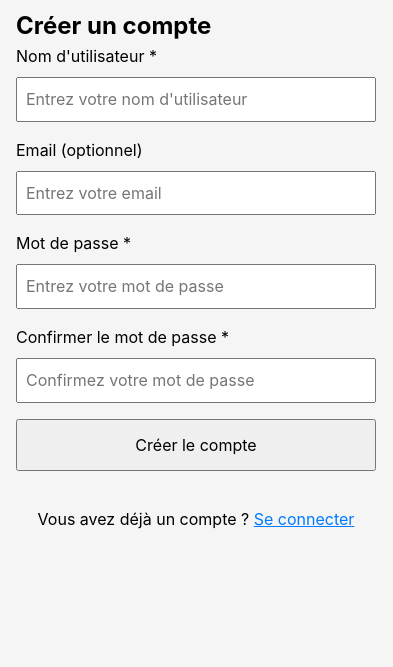
Test: Signup Component › should show success message after successful signup
Type "newuser" into the field labelled "Nom d'utilisateur *". click: (196, 99)
box: [16,77,376,122]
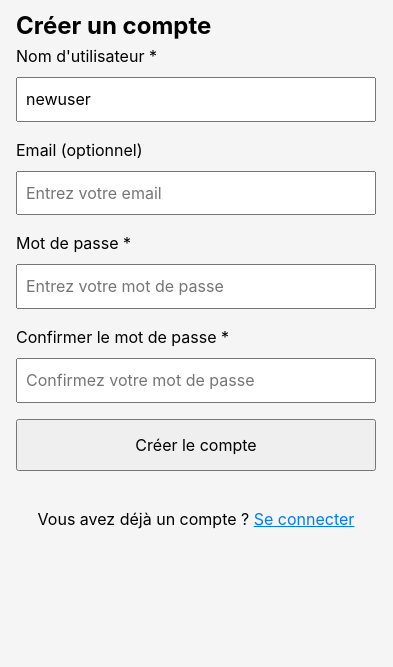
Type "password123" into the password field labelled "Mot de passe *". click: (196, 287)
box: [16,264,376,309]
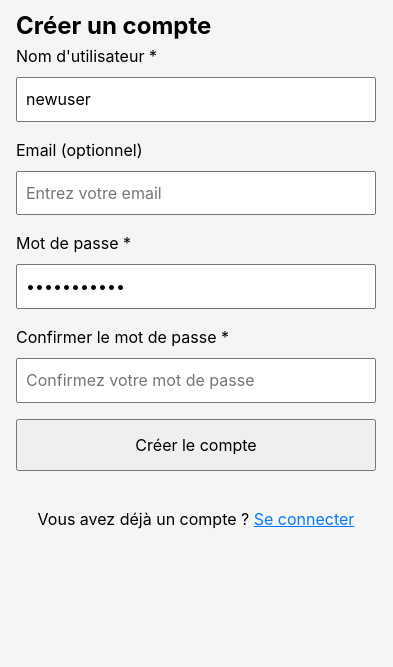
Type "password123" into the password field labelled "Confirmer le mot de passe *". click: (196, 380)
box: [16,358,376,403]
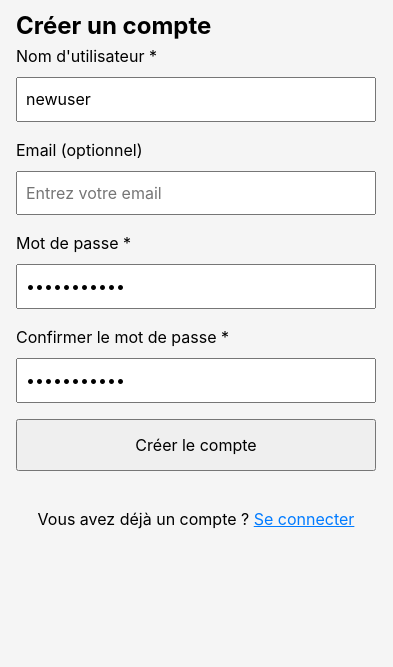
Click the button "Créer le compte". click: click(196, 445)
box: [16,419,376,471]
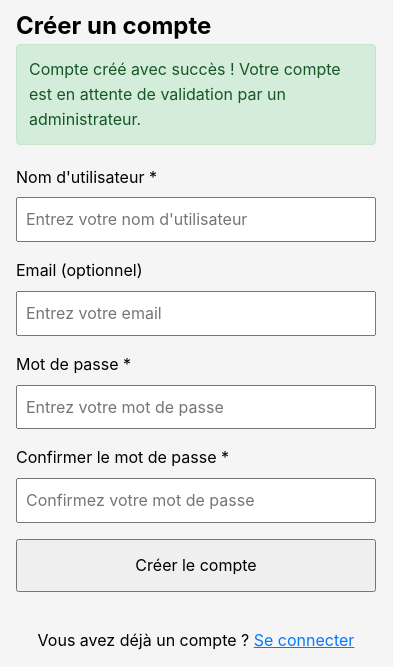
Now the text "en attente de validation" is shown, box [29,59,341,129]
Now the field labelled "Nom d'utilisateur *" is empty, box [16,197,376,242]
Now the password field labelled "Mot de passe *" is empty, box [16,385,376,429]
